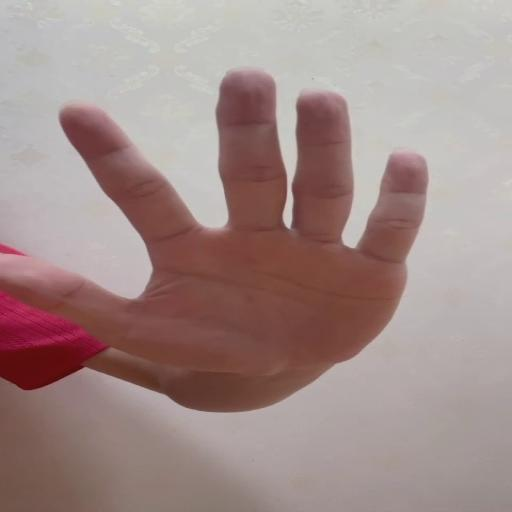open_palm: (3, 64, 431, 372)
